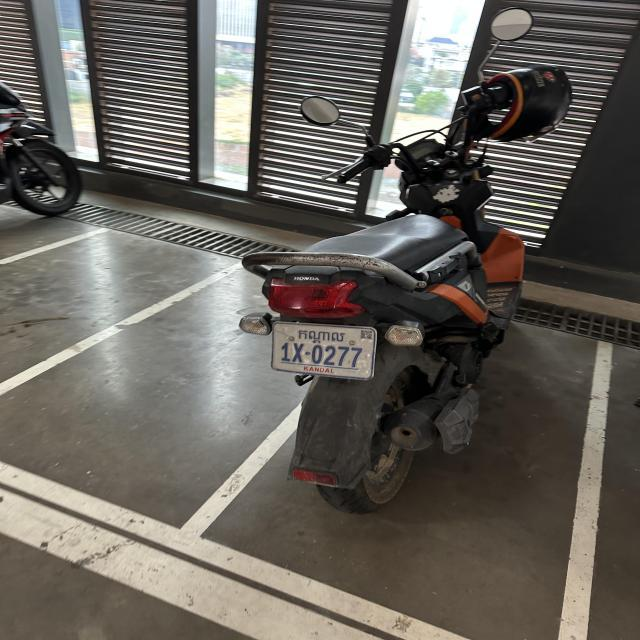Kandal: (297, 328, 346, 343)
